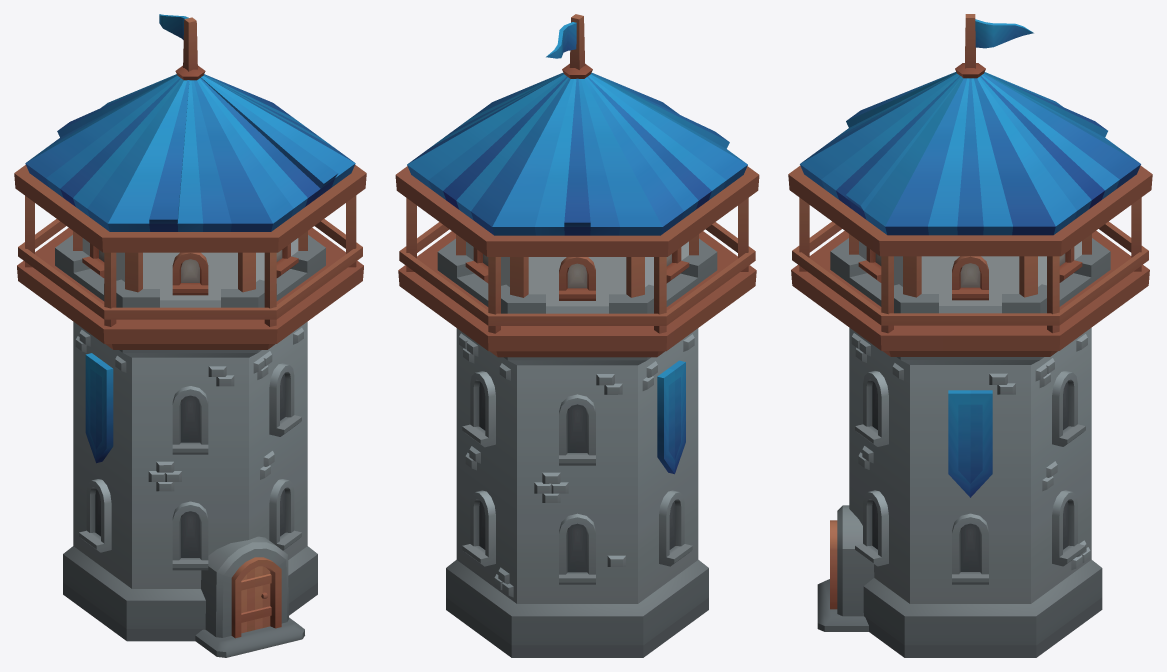
The model's file is tower-b-blue.glb.
3 views of the same model, side by side, from view 1: azimuth 30°, elevation 25°; view 2: azimuth 150°, elevation 25°; view 3: azimuth 270°, elevation 25° (orthographic). The views are drawn at different scales.
Visible parts, largest first — view 1: building_tower_B_blue; view 2: building_tower_B_blue; view 3: building_tower_B_blue.
Part boxes in pixels (x1=…): building_tower_B_blue: x1=14, y1=14, x2=366, y2=657; building_tower_B_blue: x1=395, y1=14, x2=759, y2=657; building_tower_B_blue: x1=788, y1=14, x2=1152, y2=657.
Size of the model in its own units: 1.2 by 2.49 by 1.38.
Materials: 1 (1 with a texture image).
